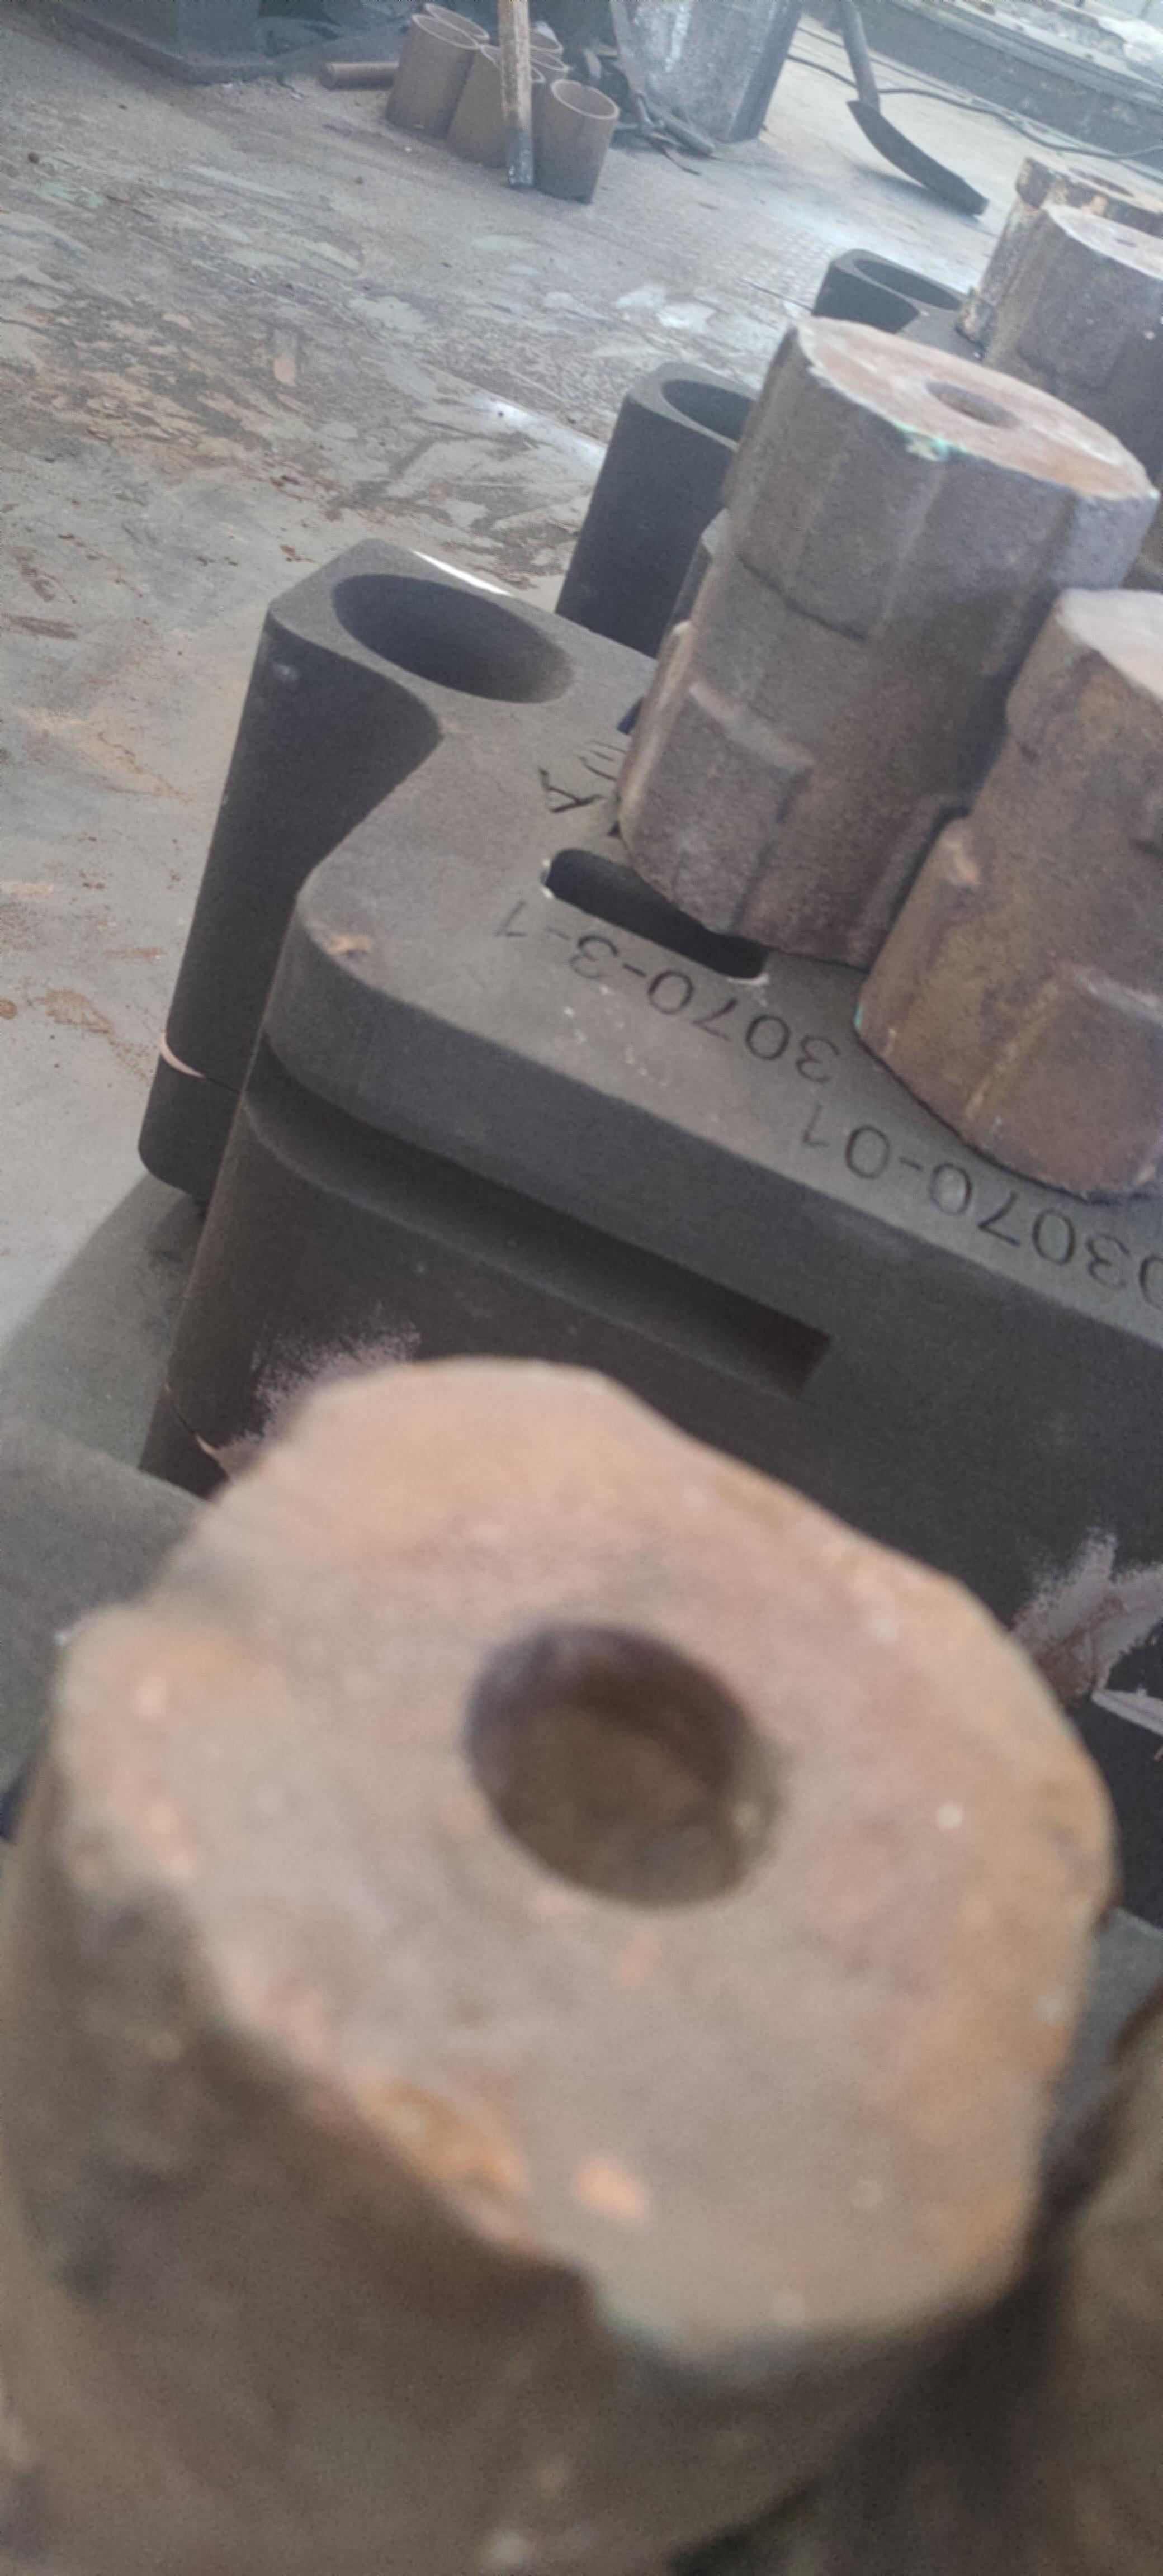pouring hole: (333, 570, 573, 701), (660, 375, 792, 452), (853, 256, 961, 310), (552, 79, 618, 120), (480, 44, 545, 82), (424, 3, 490, 39), (412, 16, 476, 49), (504, 39, 565, 71), (508, 23, 562, 53)
